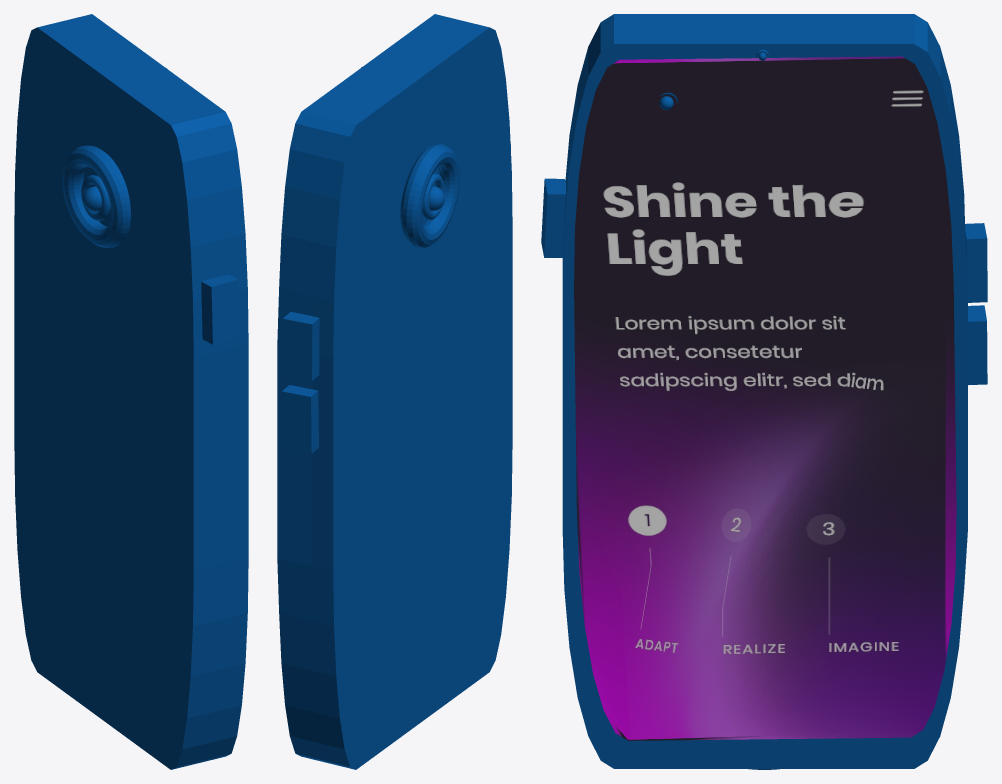
Rendered from CellPhone_IP6.gltf.
3 renders of one model, left to right at view 1: azimuth 30°, elevation 25°; view 2: azimuth 150°, elevation 25°; view 3: azimuth 270°, elevation 25°, orthographic. The views are drawn at different scales.
Visible parts, largest first — view 1: Torus.003; view 2: Torus.003; view 3: Torus.003.
Part boxes in pixels (x1,y1,x2,y2): Torus.003: (14,14,248,769); Torus.003: (277,14,512,769); Torus.003: (541,14,987,769).
Size of the model in its own units: 1.43 by 10.4 by 5.74.
Materials: 2 (1 with a texture image).
